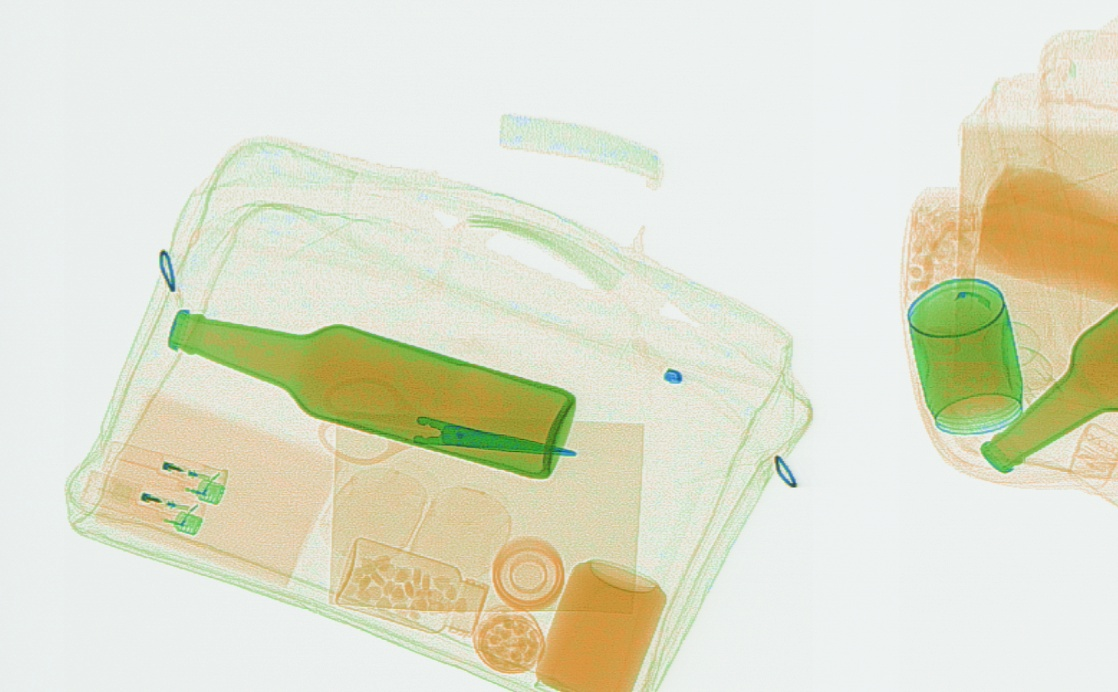lighter: (98, 436, 227, 507), (82, 470, 203, 539)
scissors: (318, 374, 577, 467)
